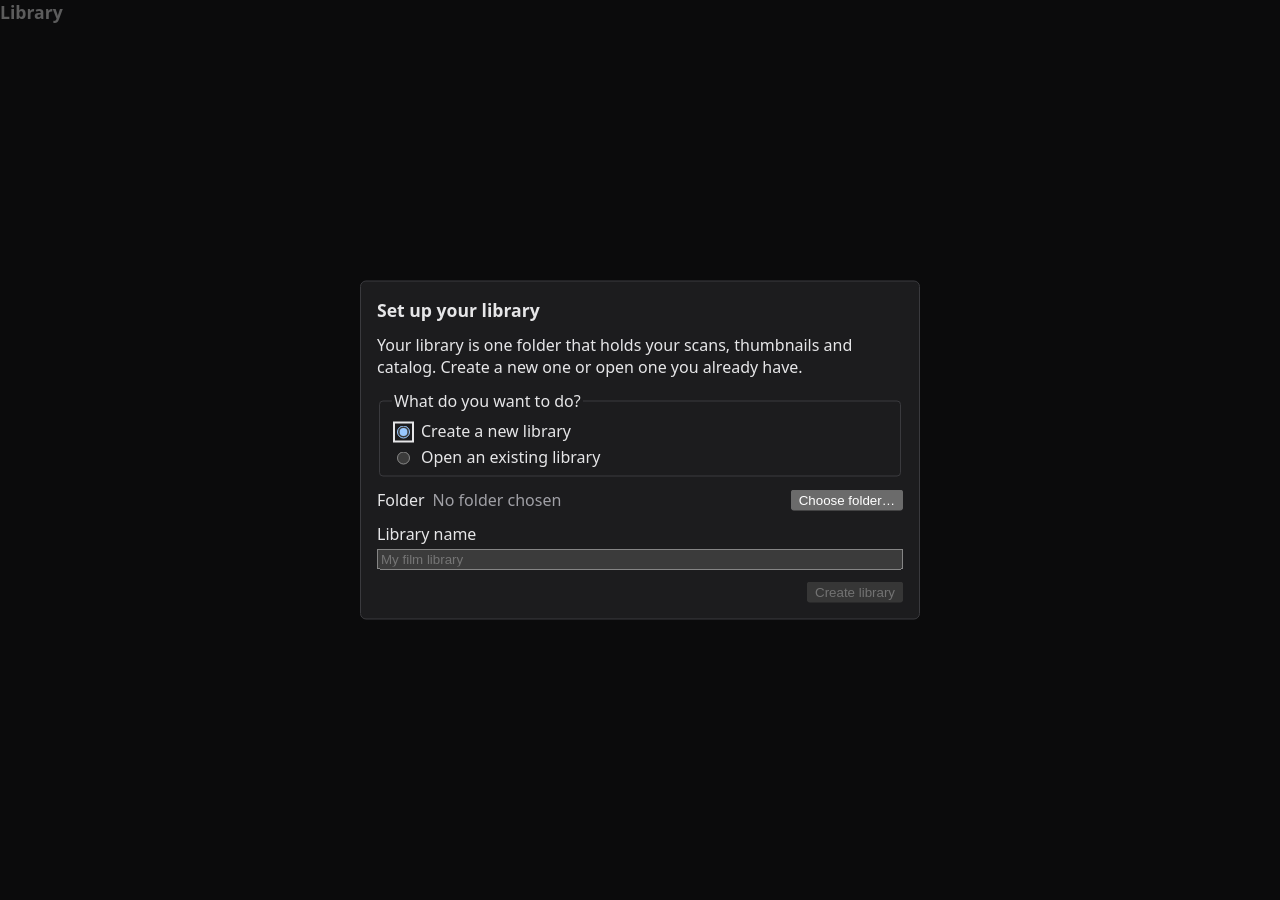
Test: LibraryView › opening a library › warns when there is little free space, and shows the backend error if creating fails
The width and height of the screenshot is (1280, 900).
Click the button "Choose folder…": (847, 500) [791,489,903,510]
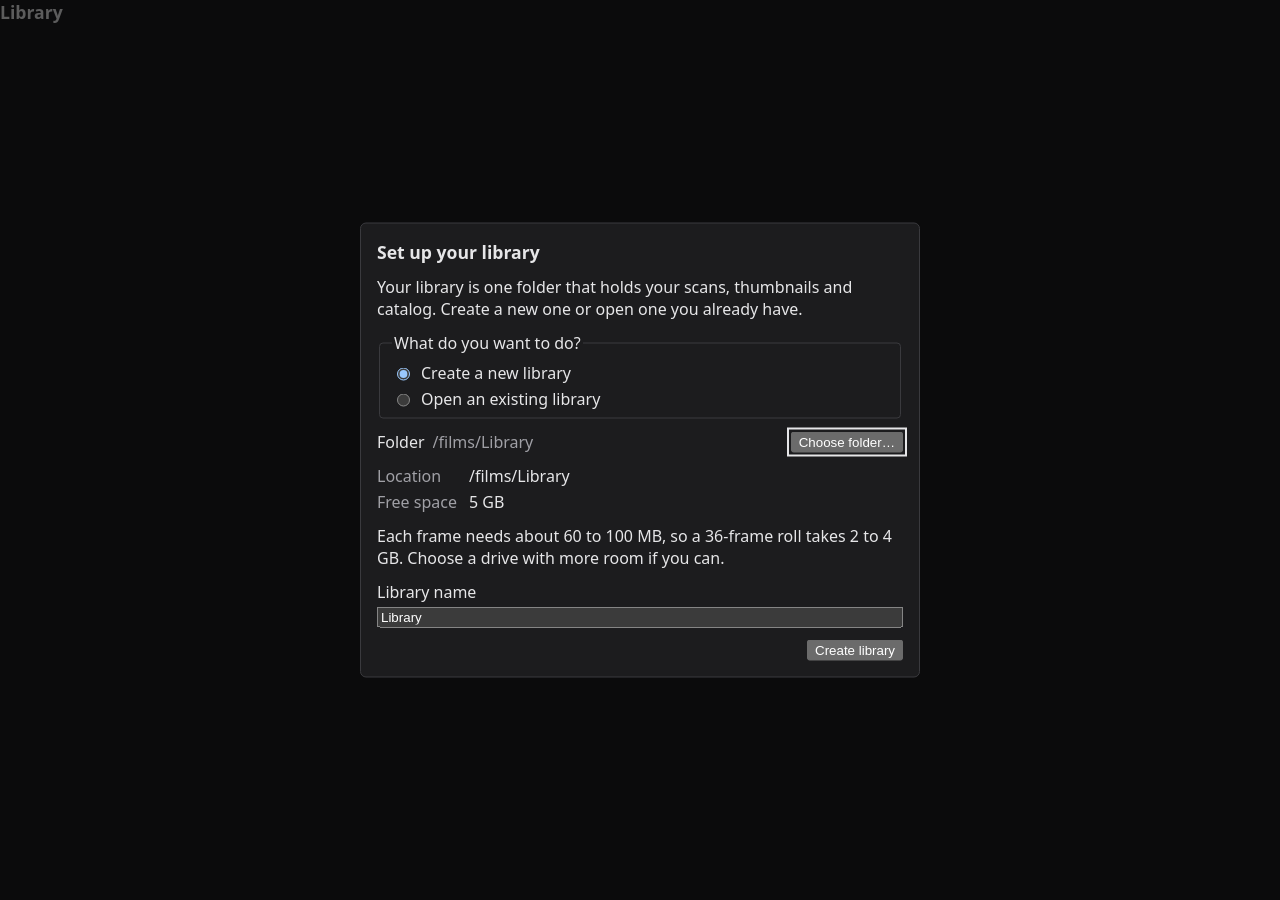
Expected: the text "60 to 100 MB" is shown, [377,524,892,568]
Click the button "Create library": (855, 650) [807,640,903,660]
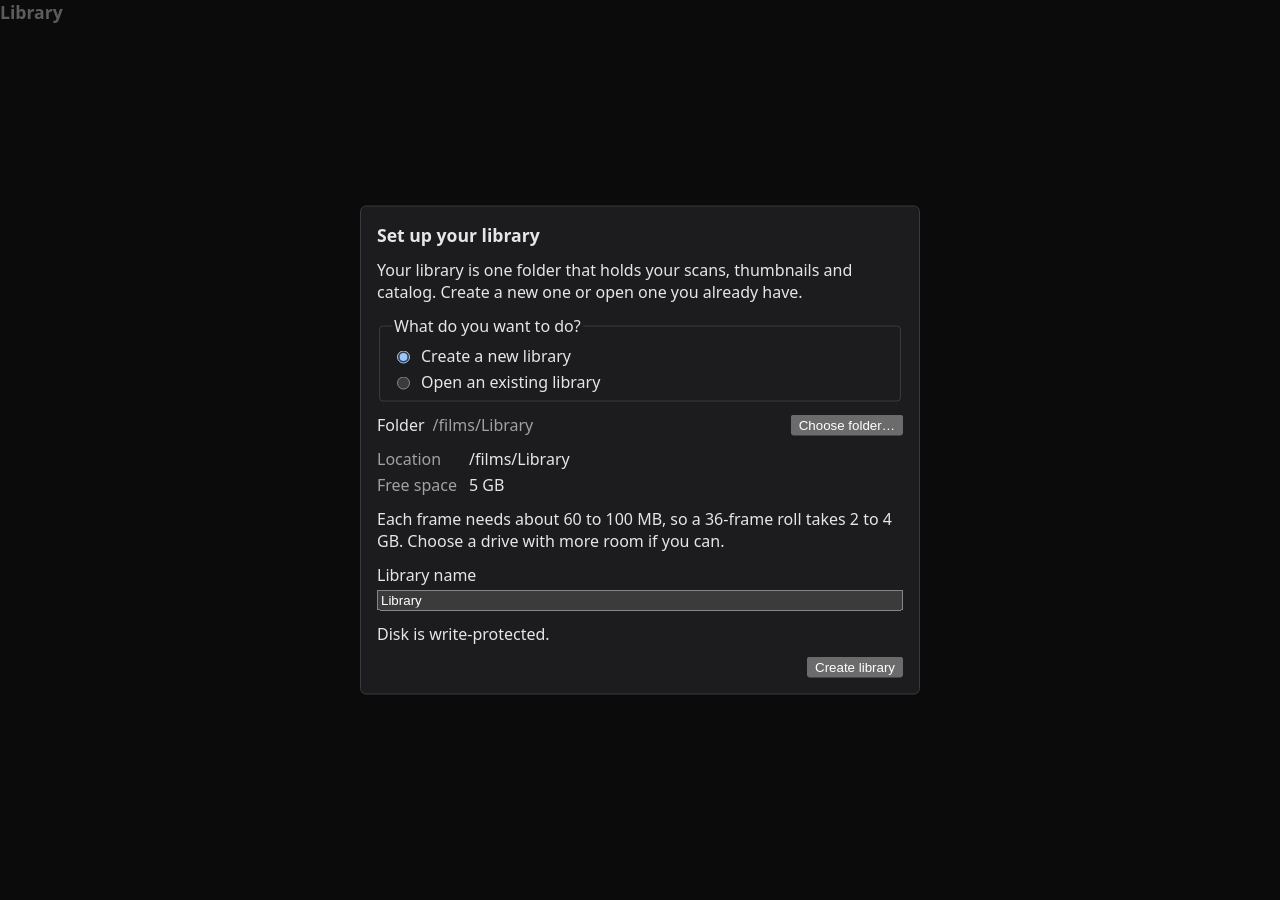
Expected: the button "Create library" is enabled, [807,656,903,678]
Expected: the message reads "Disk is write-protected.", [377,622,550,644]
